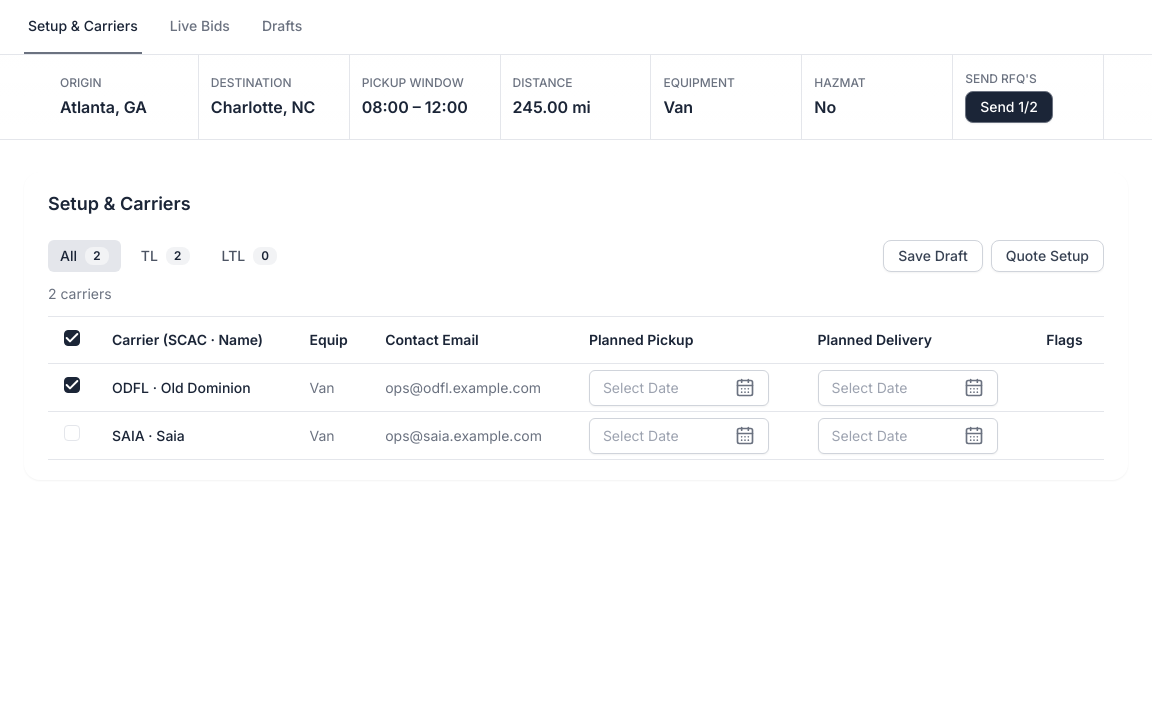
Scenario: SpotBoardTab › on Send RFQ, surfaces one working bid link per included carrier and none for excluded ones
The width and height of the screenshot is (1152, 720).
Click the button "Send 1/2".
click(1009, 107)  # box x1=965 y1=91 x2=1053 y2=123
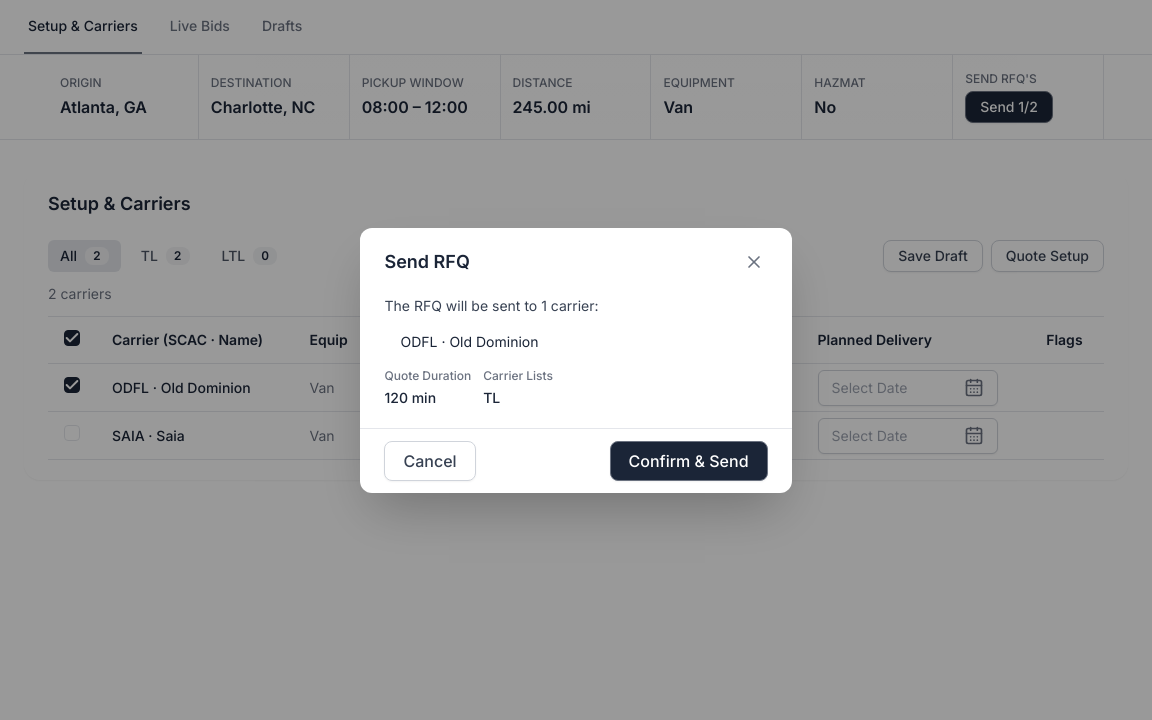
Click the button "Confirm & Send".
click(688, 460)  # box x1=610 y1=440 x2=768 y2=480
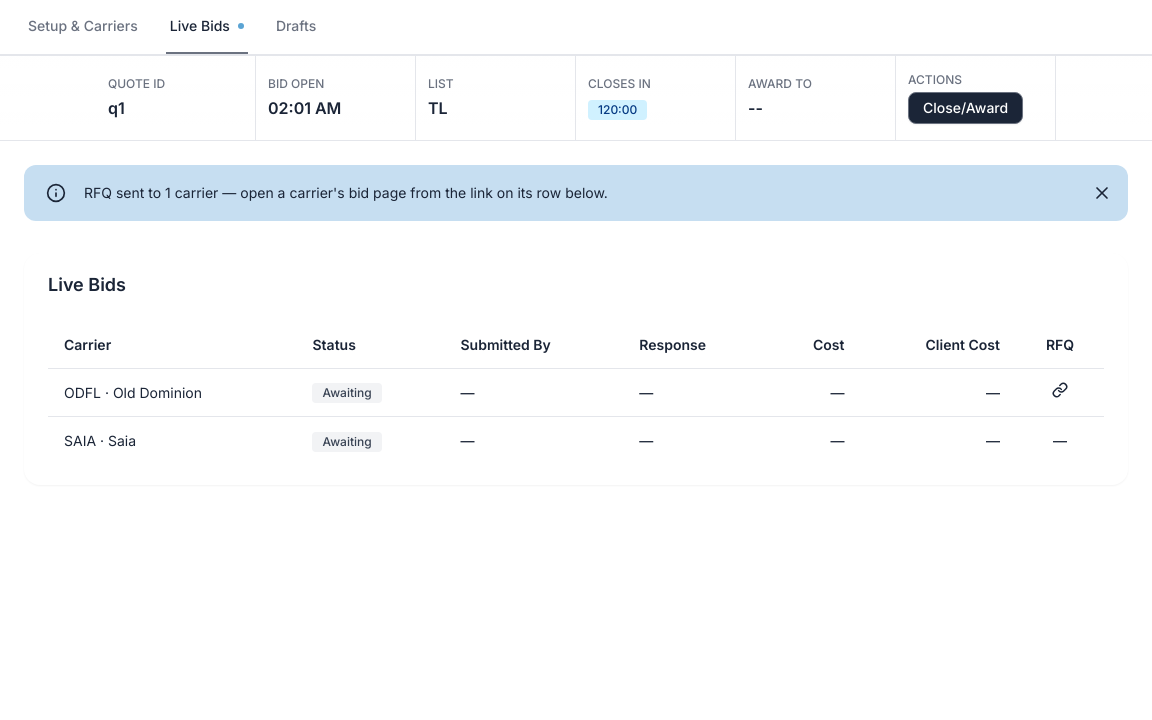
Expected: the text "RFQ sent to 1 carrier" is shown, x1=84 y1=184 x2=608 y2=201
Expected: the link named "Open bid link for ODFL · Old Dominion" is shown, x1=1052 y1=382 x2=1068 y2=398
